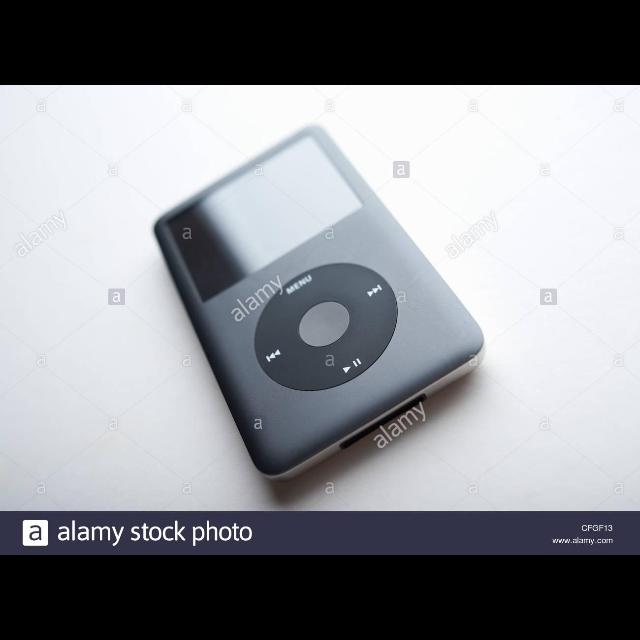Music-Player: (146, 119, 499, 482)
